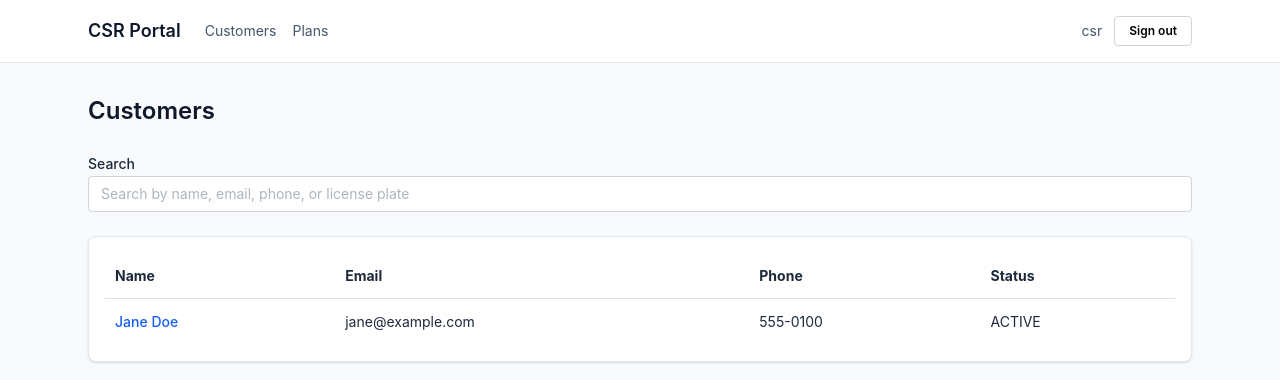
App › navigates between customers and plans from the header
Expected: the link "Jane Doe" is shown, [115,314,178,330]
Click the link "Plans": (310, 31) [292,21,328,41]
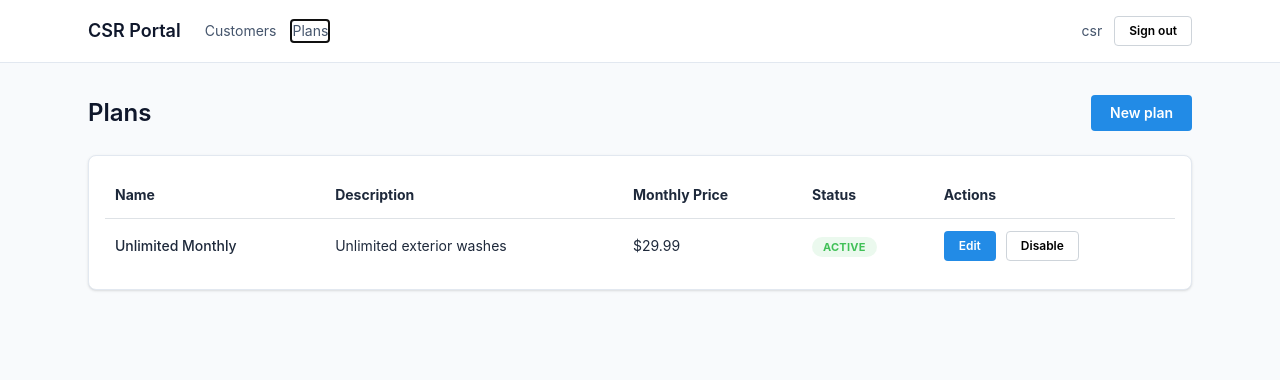
Expected: the text "Unlimited Monthly" is shown, [105,218,325,273]
Click the link "Customers": (241, 31) [205,21,276,41]
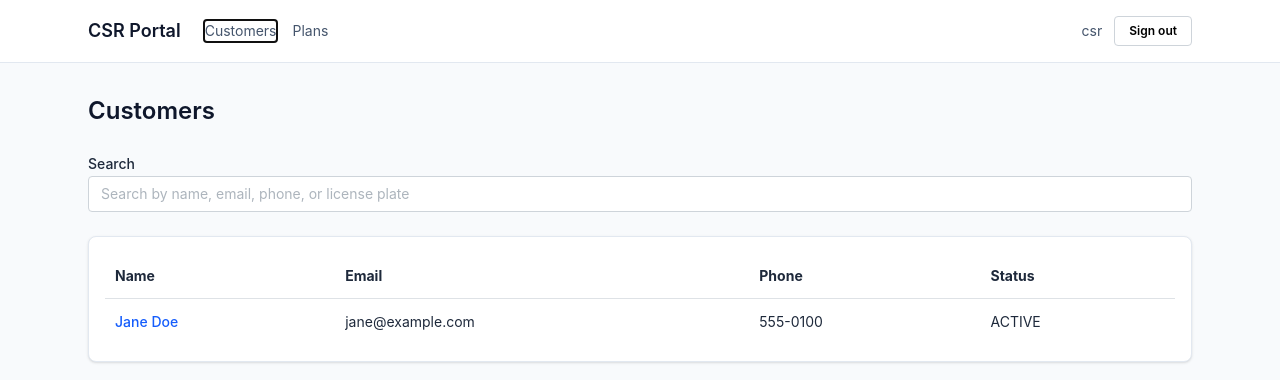
Expected: the link "Jane Doe" is shown, [115,314,178,330]
